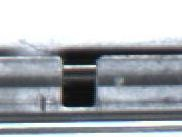oneu: (54, 51, 105, 113)
